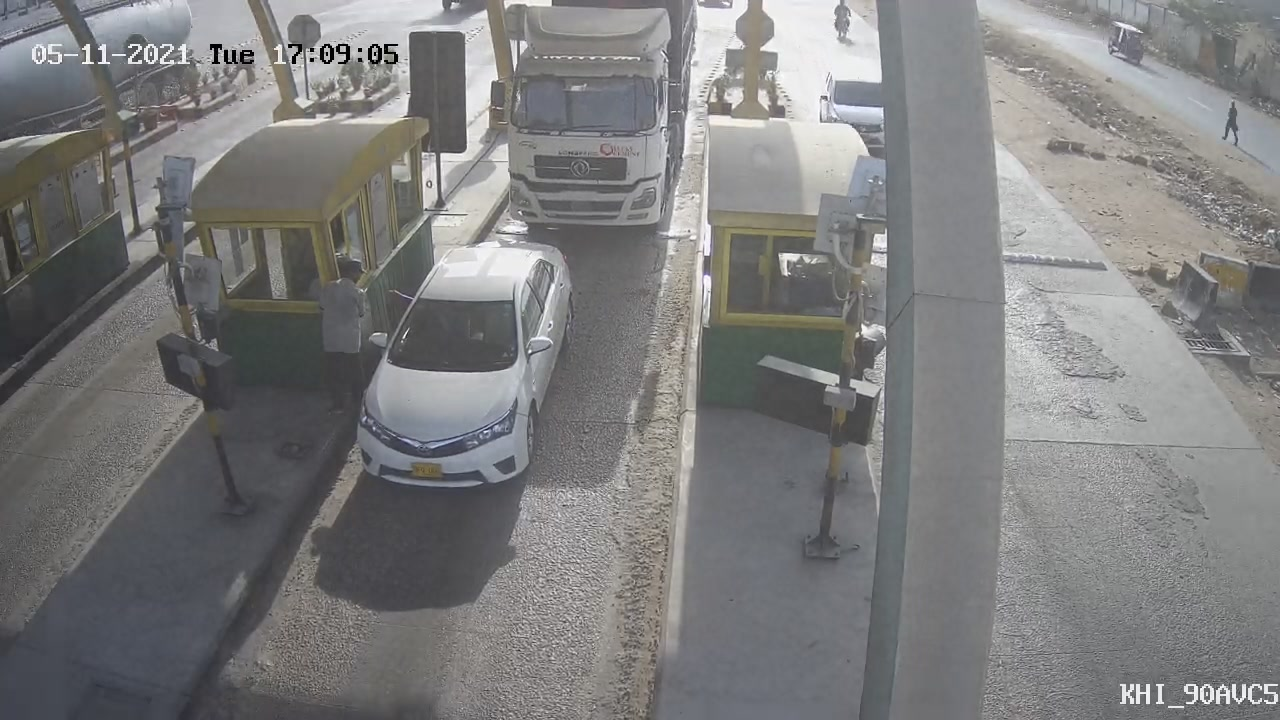F1: (331, 230, 592, 508)
